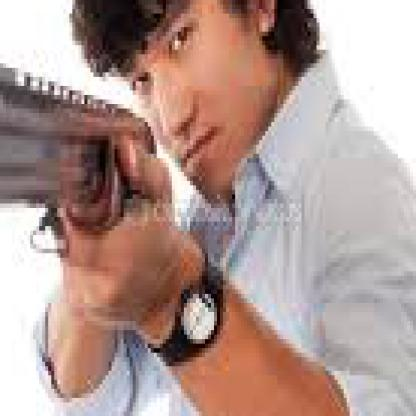gun: (0, 27, 169, 312)
